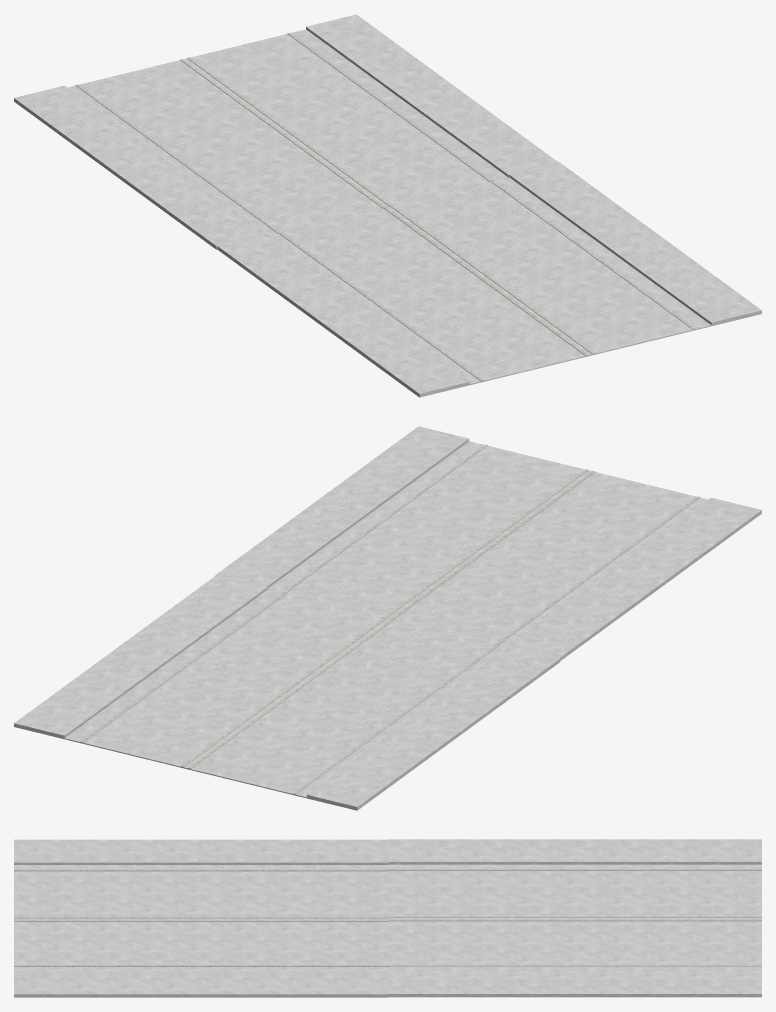
File: Carretera.obj
3 views of the same model, one above another, from view 1: azimuth 30°, elevation 25°; view 2: azimuth 150°, elevation 25°; view 3: azimuth 270°, elevation 25° (orthographic). The views are drawn at different scales.
Visible parts, largest first — view 1: Part5, Part8, Part4, Part3, Part9, Part13, Part1, Part2, Part6, Part10, Part11, Part12 (+2 smaller); view 2: Part8, Part5, Part13, Part9, Part3, Part4, Part10, Part2, Part7, Part11, Part14, Part1 (+2 smaller); view 3: Part5, Part8, Part3, Part4, Part9, Part13, Part2, Part7, Part6, Part12, Part10, Part1 (+2 smaller).
Part boxes in pixels (x1,y1,x2,y2): Part5: (217,177,761,397); Part8: (14,29,507,249); Part4: (509,162,761,325); Part3: (217,233,469,396); Part9: (14,85,265,248); Part13: (306,14,558,177); Part1: (491,180,695,329); Part2: (279,232,483,381); Part6: (383,206,588,355); Part10: (287,32,492,181); Part11: (75,84,280,233); Part12: (187,57,392,206); Part8: (14,589,560,810); Part5: (267,441,761,660); Part13: (14,575,267,738); Part9: (306,646,560,809); Part3: (508,497,761,659); Part4: (215,426,469,588); Part10: (80,593,285,742); Part2: (494,496,700,645); Part7: (382,469,588,618); Part11: (292,645,498,794); Part14: (188,619,393,768); Part1: (281,444,487,593); Part5: (14,865,388,997); Part8: (387,864,761,997); Part3: (14,839,388,864); Part4: (14,971,388,996); Part9: (387,839,761,864); Part13: (387,971,761,996); Part2: (14,869,388,871); Part7: (14,919,388,921); Part6: (14,916,388,918); Part12: (387,919,761,921); Part10: (387,964,761,966); Part1: (14,965,388,966).
Bounding box in the file's own units: 64.16 × 0.654 × 131.
Materials: 4 (4 with a texture image).
